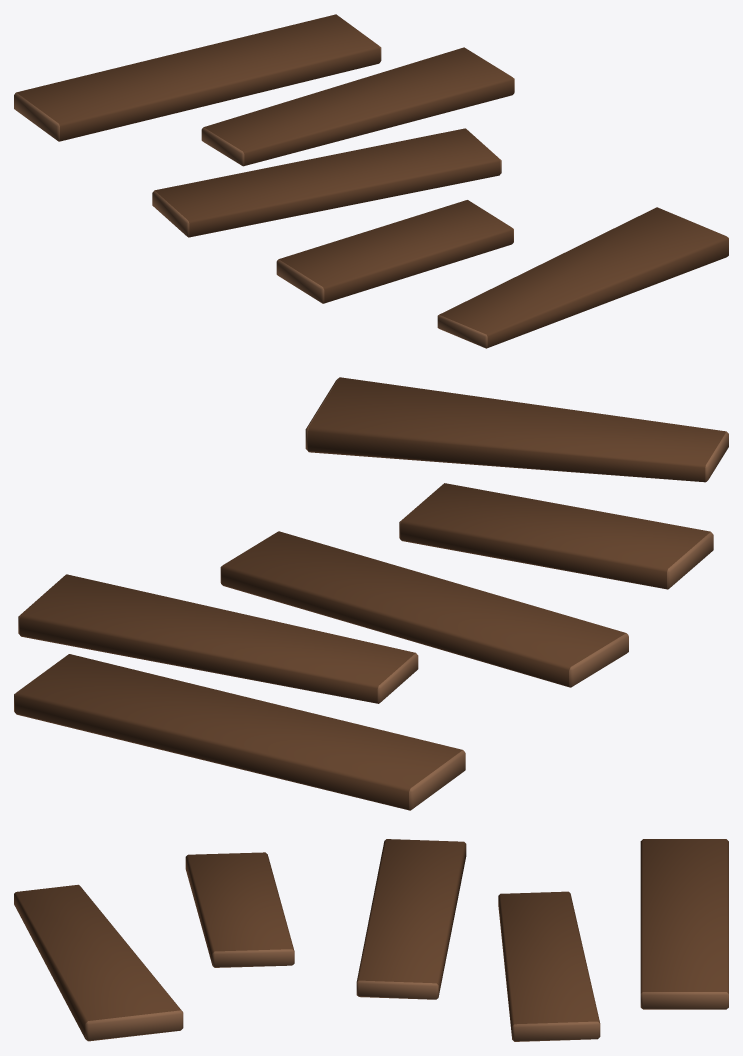
File: WoodenPavement_1.fbx
The picture shows the model from 3 angles, top to bottom: view 1: azimuth 30°, elevation 25°; view 2: azimuth 150°, elevation 25°; view 3: azimuth 270°, elevation 25°; orthographic projection. The views are drawn at different scales.
Parts seen in each view (by area): view 1: WoodenPavement_1; view 2: WoodenPavement_1; view 3: WoodenPavement_1.
Part boxes in pixels (box(x1,y1,x2,y2)): WoodenPavement_1: box(14, 14, 728, 348); WoodenPavement_1: box(14, 377, 728, 810); WoodenPavement_1: box(14, 839, 728, 1041).
Size of the model in its own units: 97.9 by 4.96 by 157.
